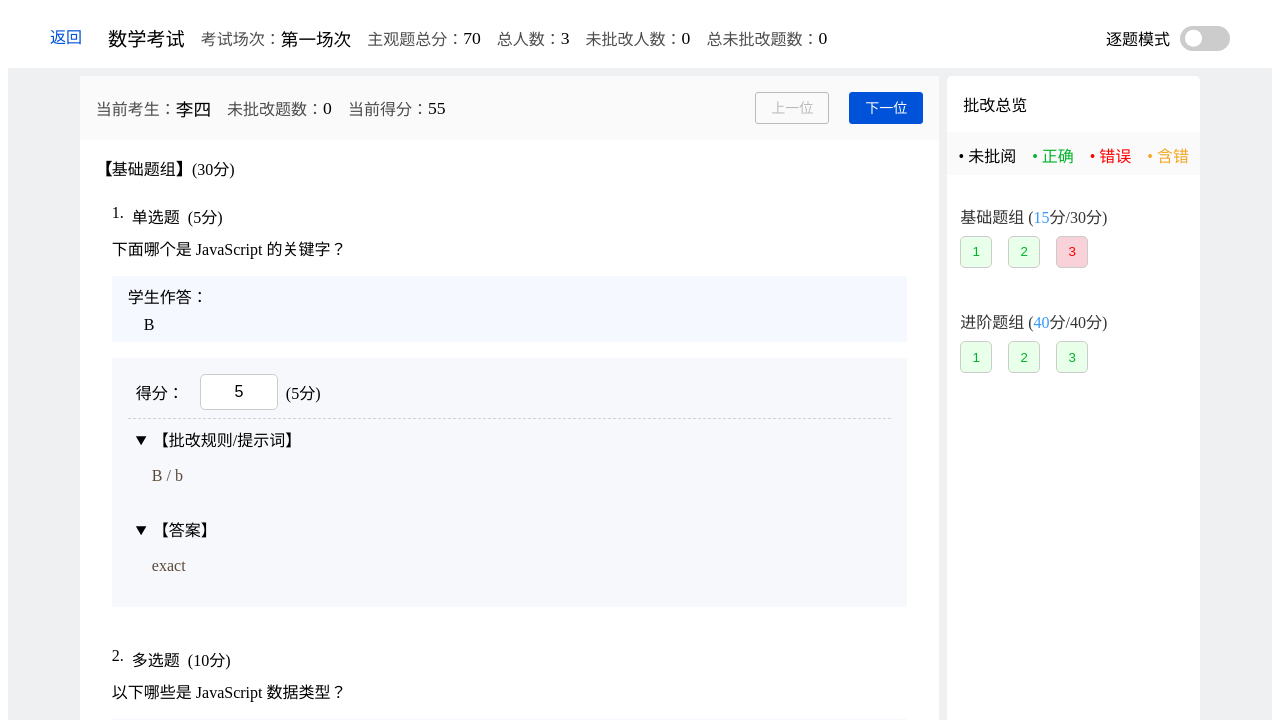
it: 批改页面测试 › 考生切换功能测试 › 应正确切换到下一位考生（全卷模式）
Expected: the text "李四" is shown, [176,96,211,120]
Click the button "下一位" at point(886, 108), box [849,92,923,124]
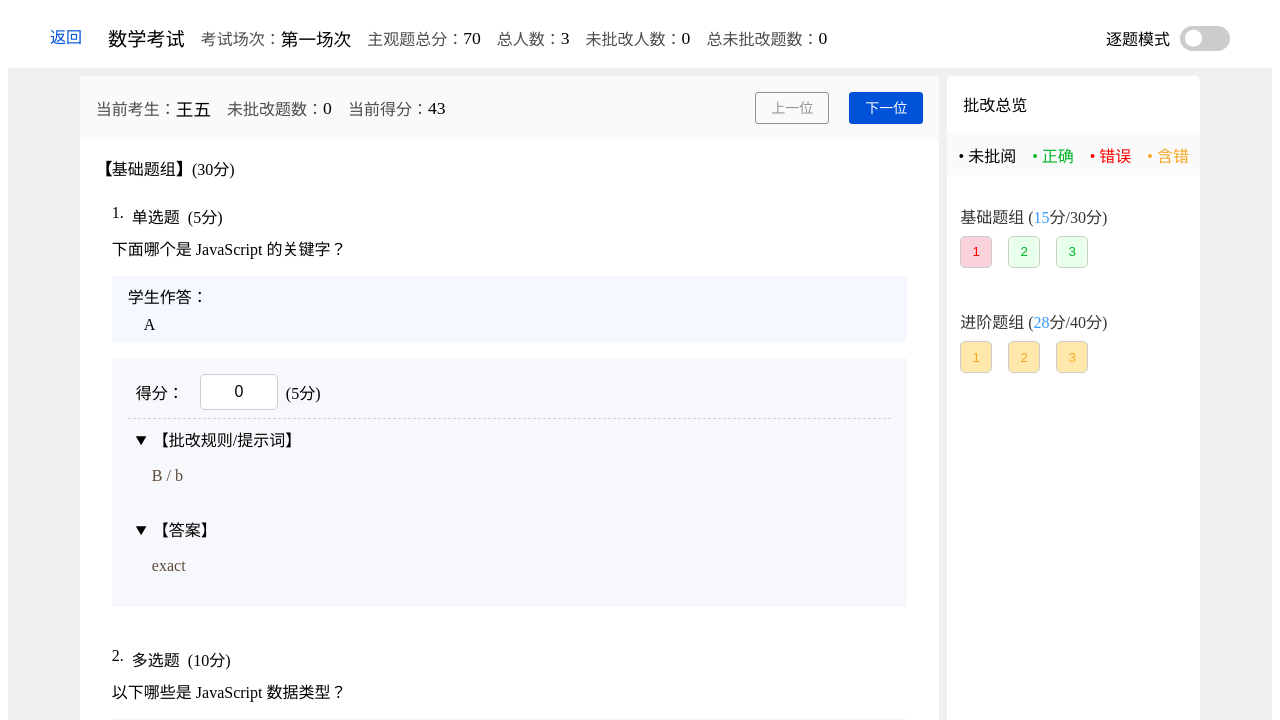
Expected: the text "王五" is shown, [176,96,211,120]
